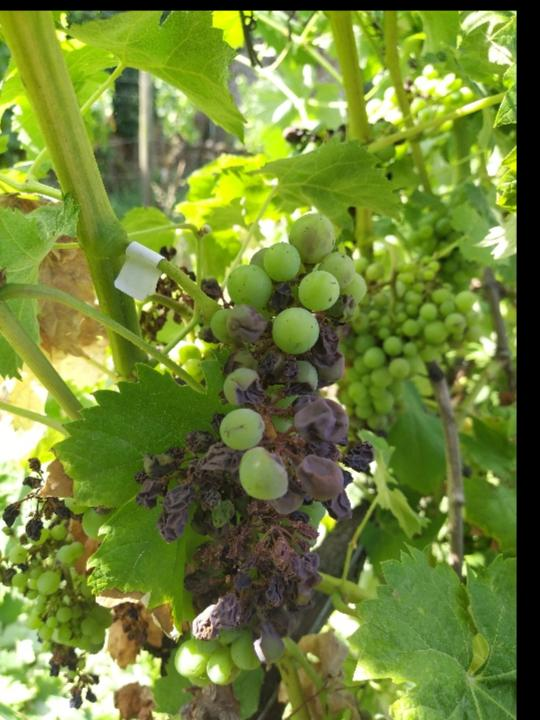grape: (135, 211, 378, 689)
